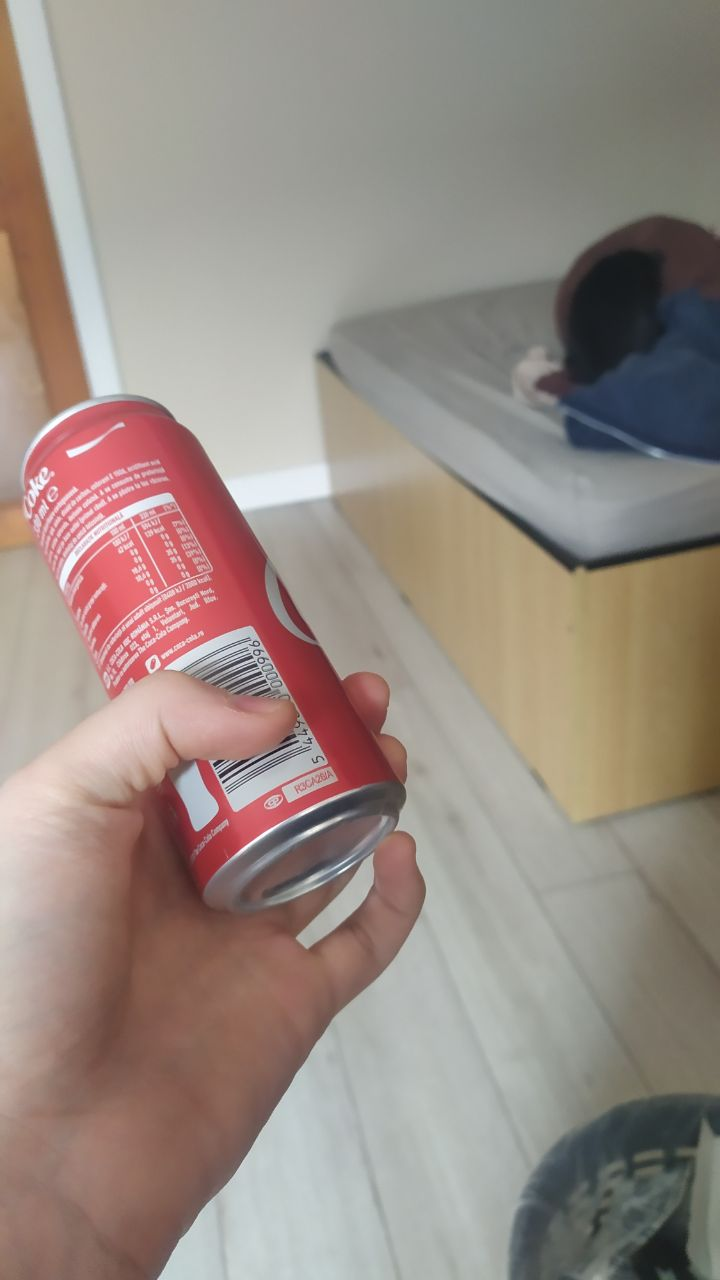Can: (15, 392, 408, 915)
